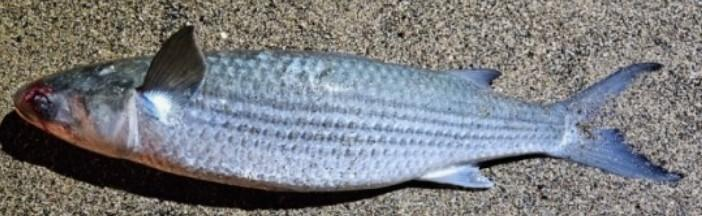fish: (11, 22, 684, 195)
